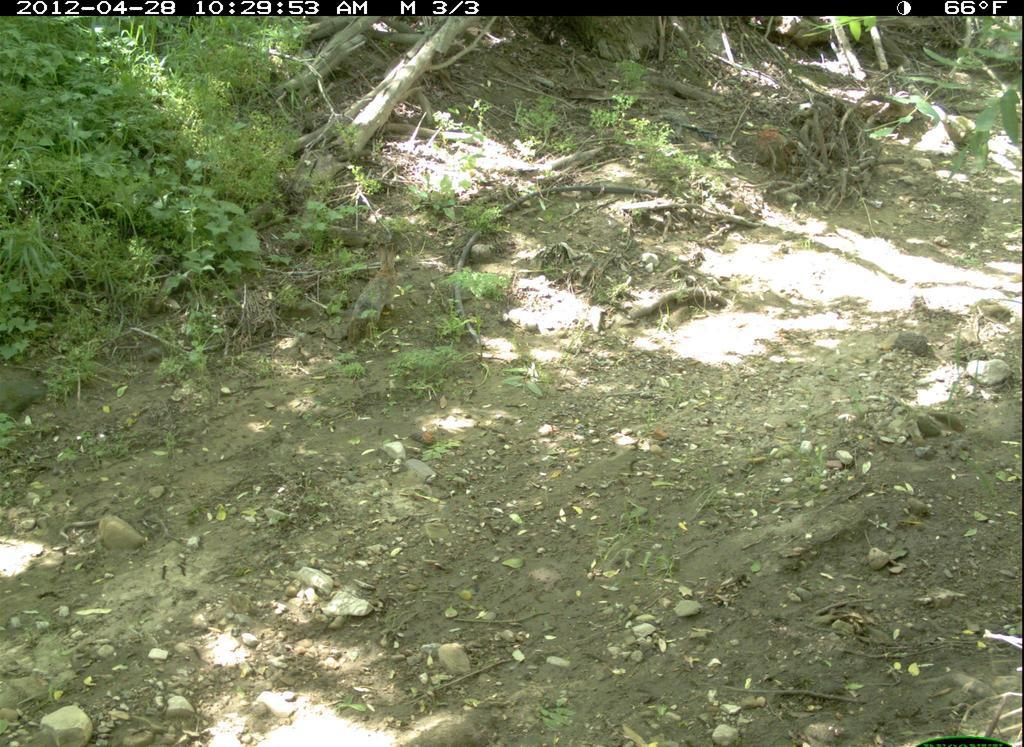rabbit: (340, 237, 411, 351)
